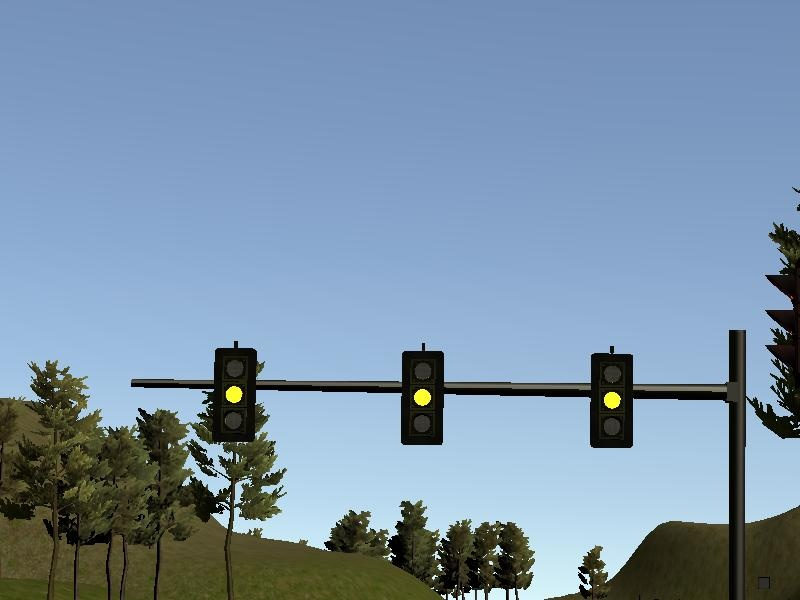YELLOW: (211, 346, 258, 443), (399, 350, 446, 447), (588, 352, 635, 449)
